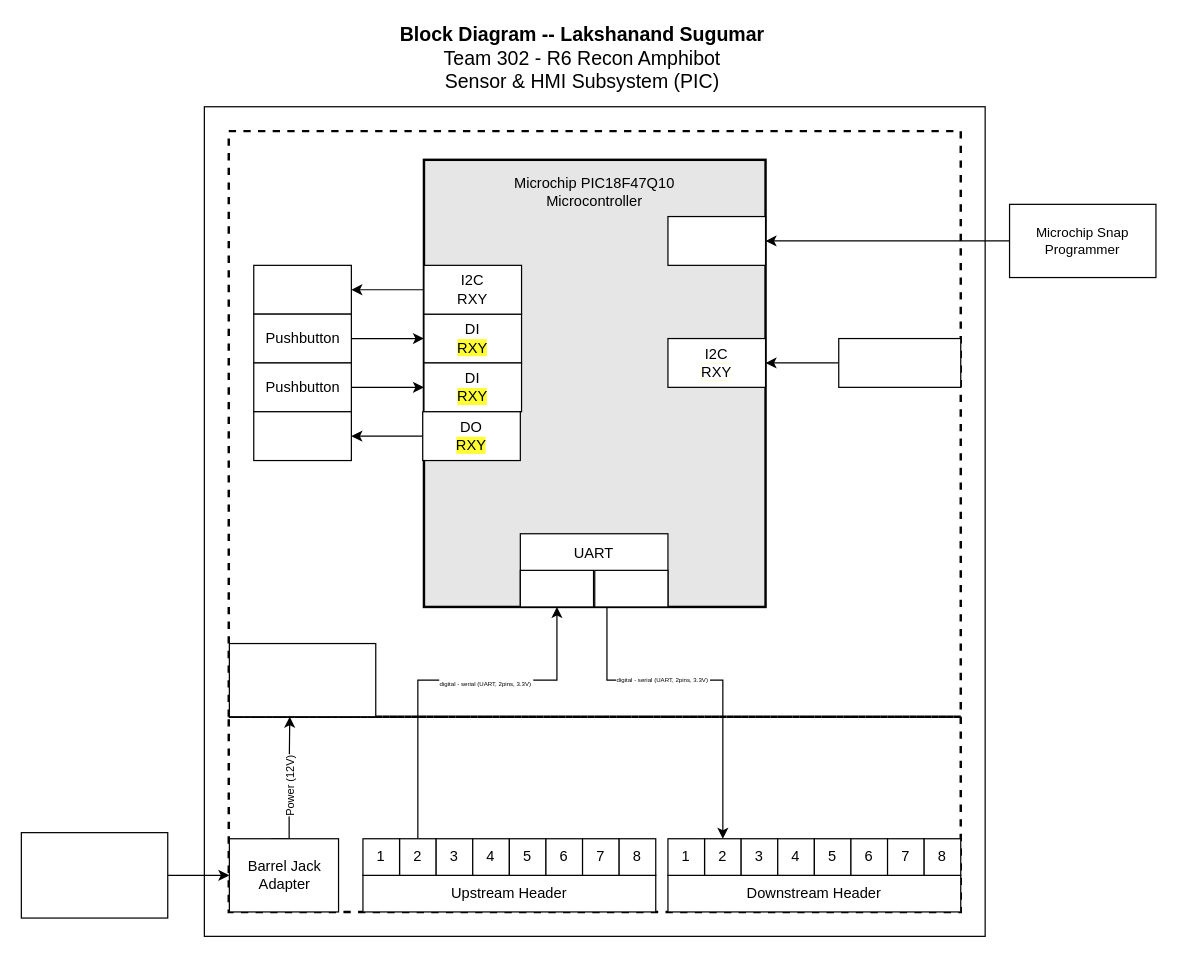
Some shapes in this 1177 by 958 pixel diagram are drawn without their labels. Each missing label, with the centre of its shape:
3.3V 1.5A Switching Power Supply MFG Part #: the point at 302,679
ICSP RXY-Z: the point at 716,240
IMU: the point at 899,362
Manufacturer Part # 12V 2A AC-DC Wall Power Supply: the point at 94,874
OLED Display: the point at 302,289
RX RC7: the point at 556,588
Status LED: the point at 302,436
TX RB6: the point at 631,588
